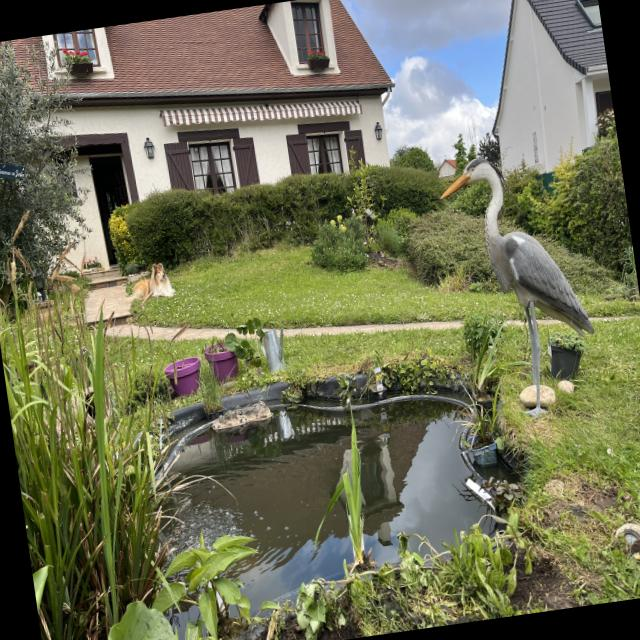Dog: (113, 245, 188, 312)
Heron: (428, 138, 611, 448)
